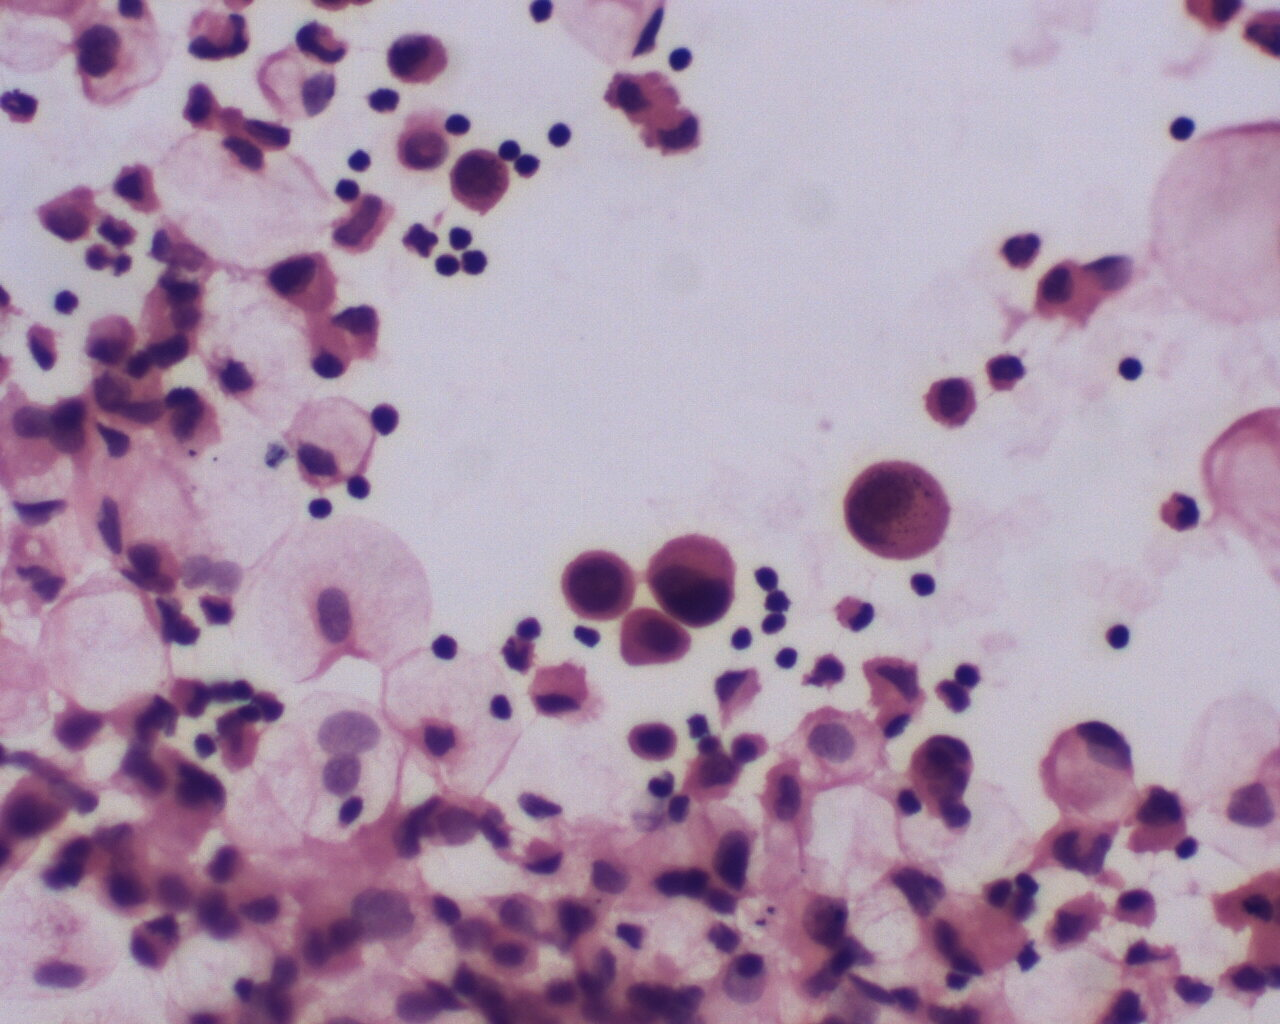ab: (842, 449, 952, 564), (645, 529, 742, 629), (902, 734, 977, 820), (560, 545, 641, 622), (450, 144, 515, 216)
histo: (223, 512, 426, 691), (146, 123, 338, 272), (1041, 717, 1135, 822), (283, 395, 383, 488)
lymph: (1102, 618, 1139, 656), (1113, 353, 1149, 389)
meso: (1031, 254, 1110, 328), (616, 604, 689, 674), (526, 661, 599, 721), (923, 371, 986, 436)
